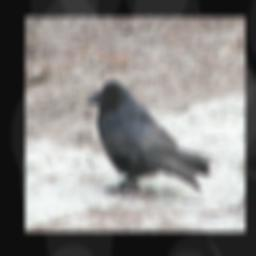Crow: (85, 80, 213, 195)
